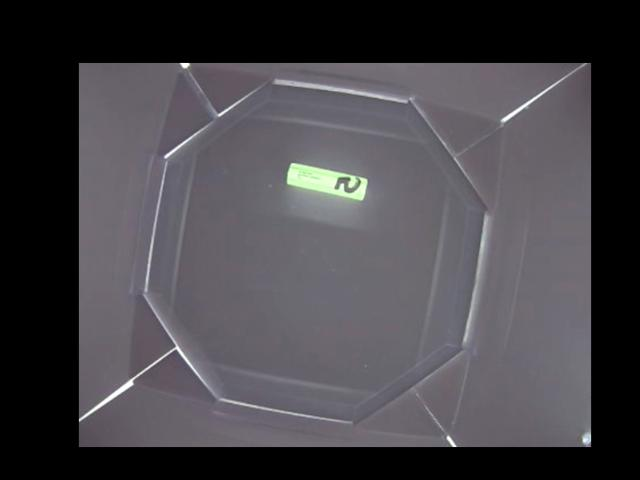Battery: (286, 162, 367, 199)
